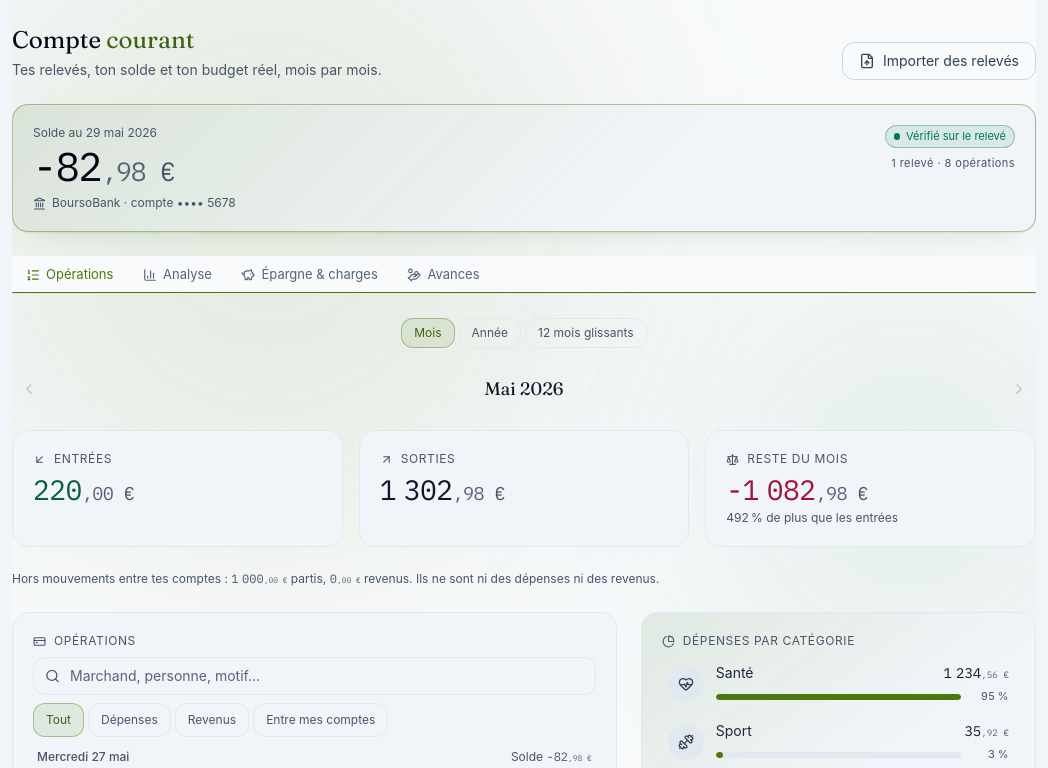
CompteCourant › ouvre l'analyse du mois et l'onglet Épargne & charges
What coordinates should you click on to do the following:
click the tab "Analyse"
I would click on:
 (177, 275)
Its box is [129,256,226,293].
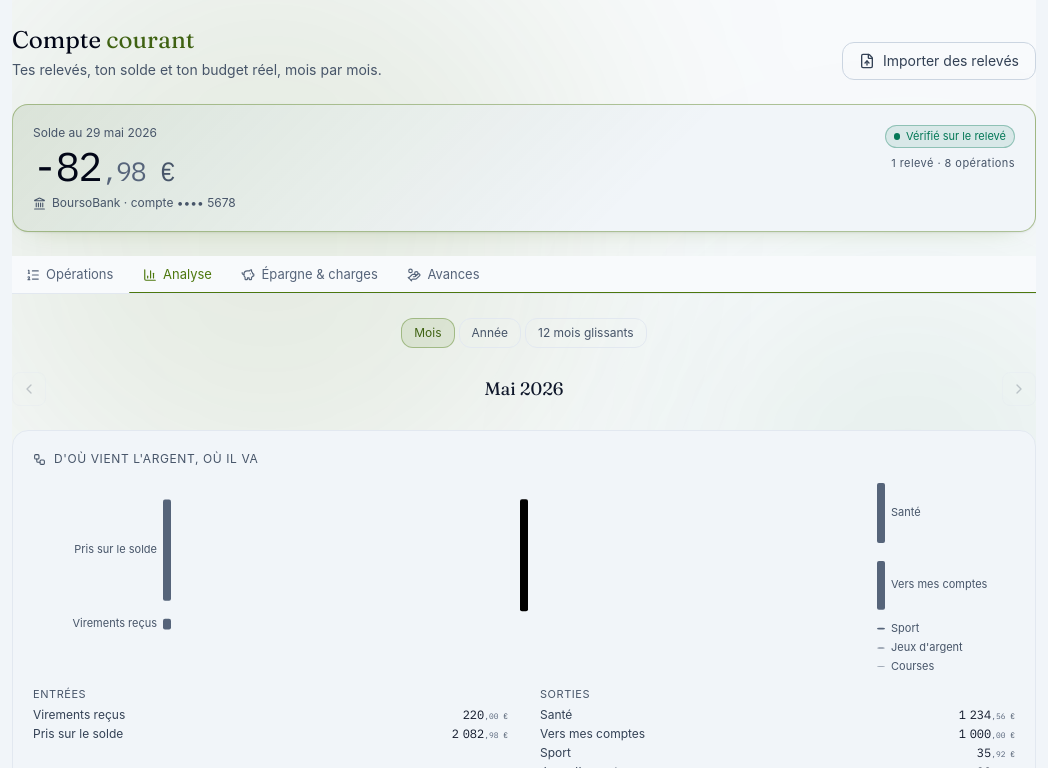
Expected: the text "D'où vient l'argent, où il va" is shown, [54,451,258,467]
What coordinates should you click on to do the following:
click the tab "Épargne & charges"
I would click on:
 (309, 275)
Its box is [228,256,391,293].
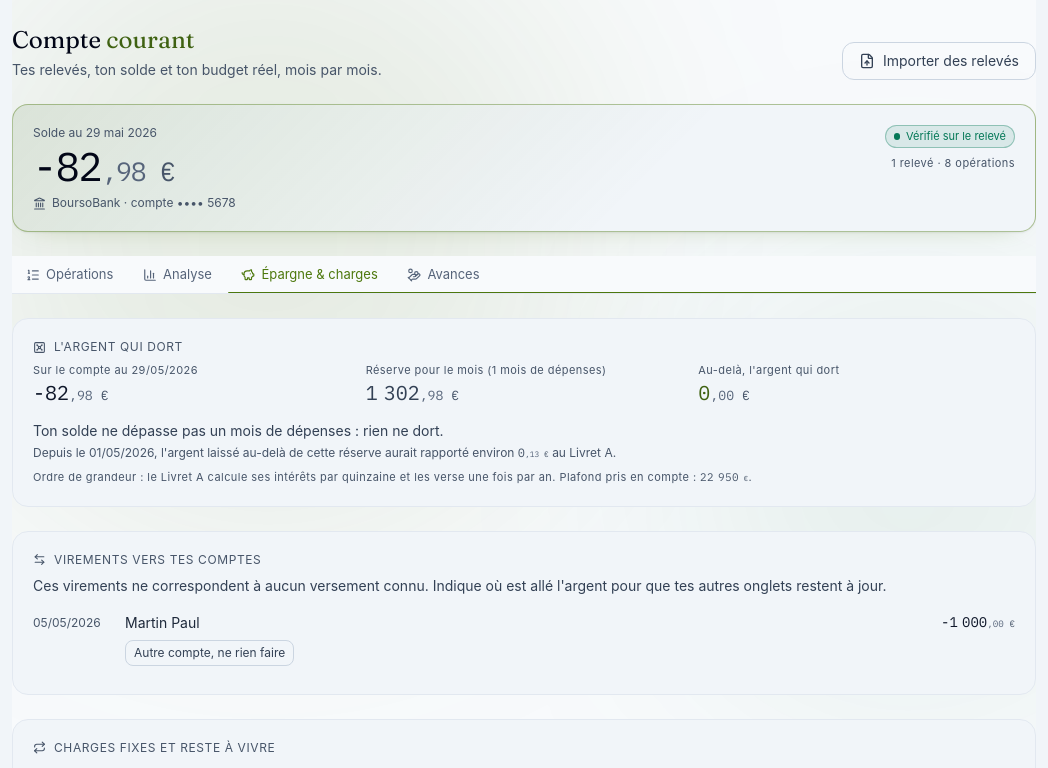
Expected: the text "Charges fixes et reste à vivre" is shown, [54,740,275,756]
Expected: the text "Ton solde ne dépasse pas un mois de dépenses : rien ne dort." is shown, [33,422,444,439]
